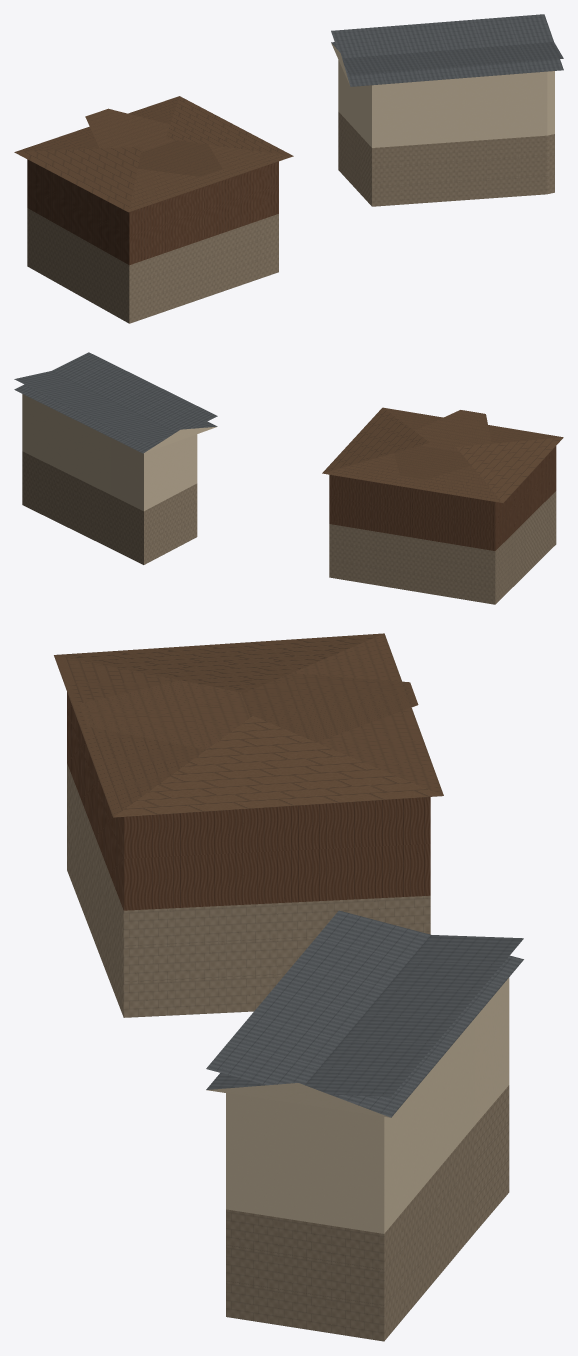
The model's file is bld_c38_36_290.gltf.
The picture shows the model from 3 angles, top to bottom: view 1: azimuth 30°, elevation 25°; view 2: azimuth 150°, elevation 25°; view 3: azimuth 270°, elevation 25°; orthographic projection. The views are drawn at different scales.
Parts seen in each view (by area): view 1: bld_c38_36_290; view 2: bld_c38_36_290; view 3: bld_c38_36_290.
Boxes of the visible parts, box(x1,y1,x2,y2) form: bld_c38_36_290: box(14, 14, 563, 323); bld_c38_36_290: box(14, 352, 563, 604); bld_c38_36_290: box(54, 633, 523, 1341).
Bounding box in the file's own units: 48.38 × 12.3 × 20.22.
Materials: 6 (6 with a texture image).
